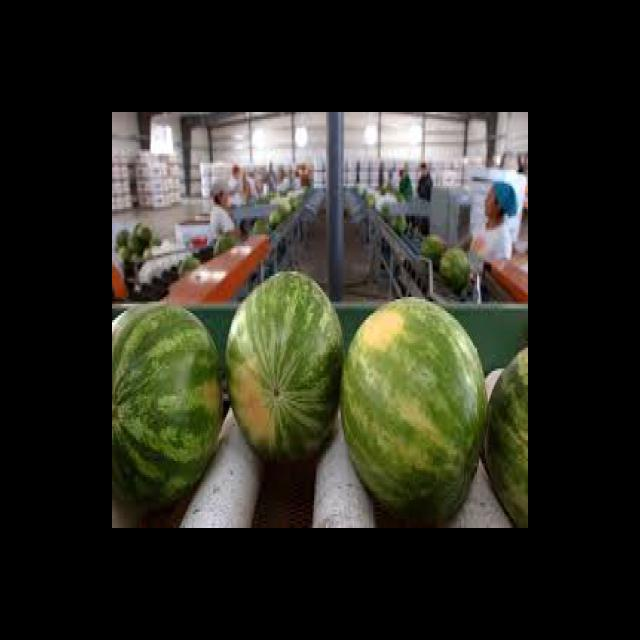watermelon: (340, 296, 490, 524), (222, 270, 346, 467), (112, 300, 224, 513), (483, 348, 528, 528), (440, 246, 470, 293), (420, 234, 448, 272), (214, 233, 241, 254), (178, 256, 201, 276), (390, 211, 407, 233), (271, 197, 291, 214), (134, 223, 151, 241), (116, 229, 132, 247), (129, 237, 149, 251), (253, 219, 269, 235), (118, 247, 132, 262), (269, 208, 280, 224), (132, 252, 142, 264), (396, 193, 405, 204), (144, 248, 152, 260), (367, 195, 374, 208)
